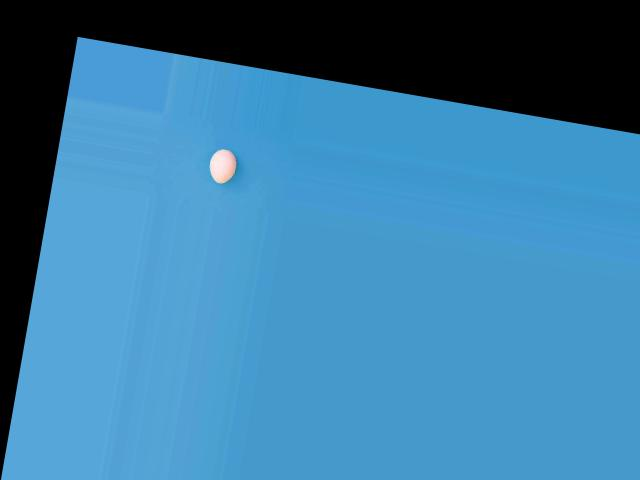egg: (206, 146, 238, 186)
